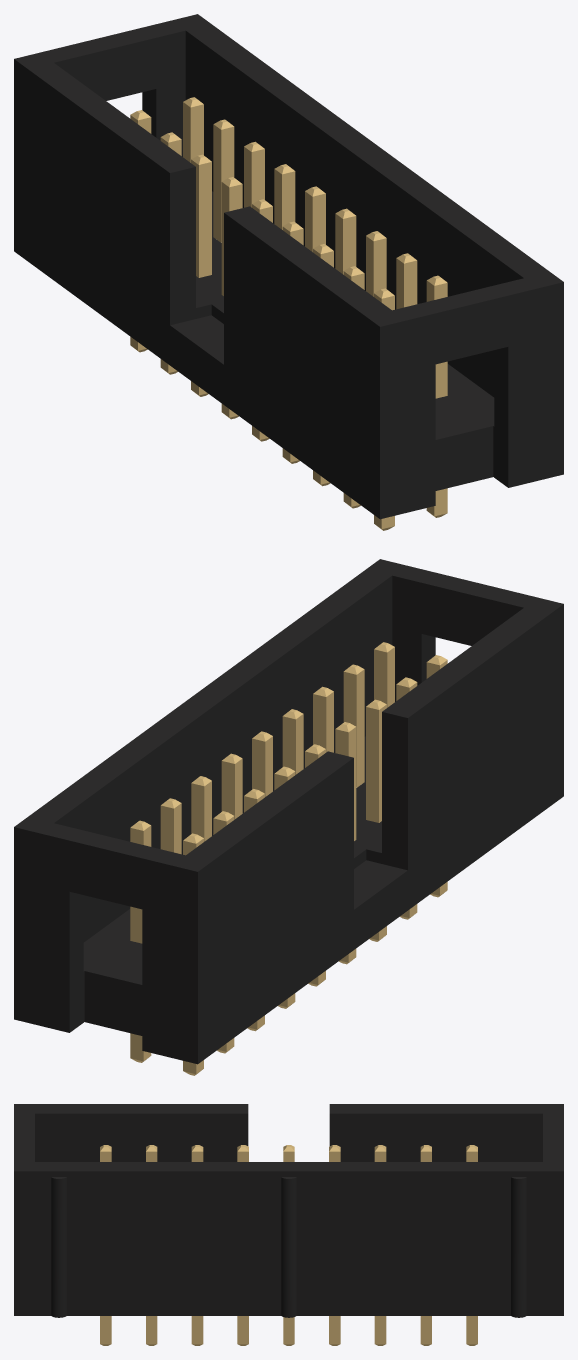
Rendered from kc-idc-header_2x09_p2.54mm_vertical.glb.
3 views of the same model, one above another, from view 1: azimuth 30°, elevation 25°; view 2: azimuth 150°, elevation 25°; view 3: azimuth 270°, elevation 25° (orthographic). The views are drawn at different scales.
Parts seen in each view (by area): view 1: 0_0_0_0, 0.75_0.5_0.25_0.9; view 2: 0_0_0_0, 0.75_0.5_0.25_0.9; view 3: 0_0_0_0, 0.75_0.5_0.25_0.9.
Part boxes in pixels (x1=…): 0_0_0_0: x1=14, y1=14, x2=563, y2=519; 0.75_0.5_0.25_0.9: x1=130, y1=97, x2=447, y2=530; 0_0_0_0: x1=14, y1=559, x2=563, y2=1064; 0.75_0.5_0.25_0.9: x1=130, y1=642, x2=447, y2=1075; 0_0_0_0: x1=14, y1=1104, x2=563, y2=1317; 0.75_0.5_0.25_0.9: x1=100, y1=1145, x2=477, y2=1345.
Size of the model in its own units: 0.9099 by 1.21 by 3.05.
